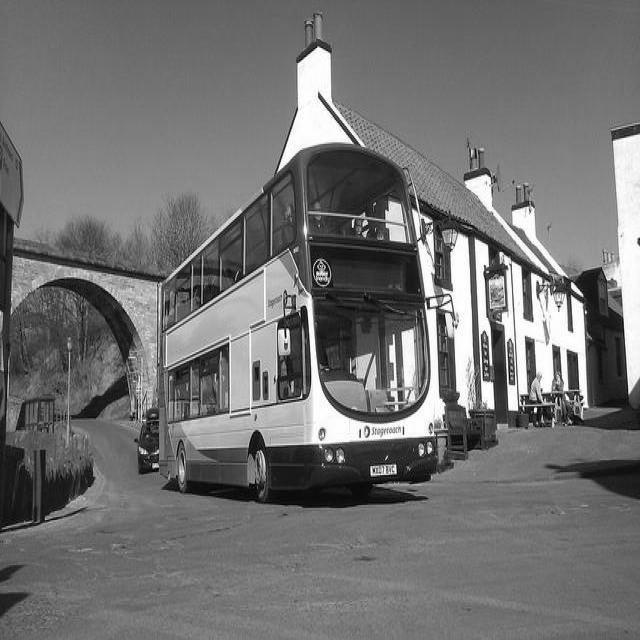vehicle: (158, 147, 452, 503), (138, 421, 160, 471)
